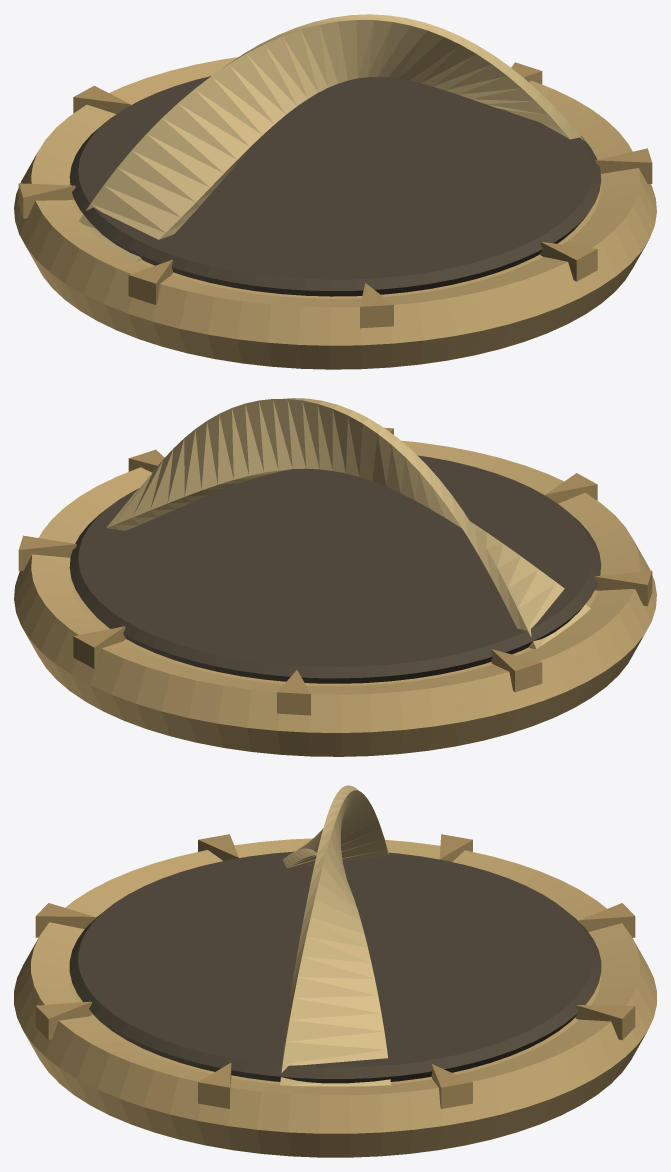
3 renders of one model, top to bottom at view 1: azimuth 30°, elevation 25°; view 2: azimuth 150°, elevation 25°; view 3: azimuth 270°, elevation 25°, orthographic.
Visible parts, largest first — view 1: WholeDarkUpperBackingDisk, WholeWrappedRoundPadAndTurnedRim, WholeRaisedHalfTwistedSheathHandBand, WholeRootedSheathRimFold06, WholeRootedSheathRimFold04, WholeRootedSheathRimFold05, WholeRootedSheathRimFold03, WholeRootedSheathRimFold07, WholeRootedSheathRimFold02; view 2: WholeDarkUpperBackingDisk, WholeWrappedRoundPadAndTurnedRim, WholeRaisedHalfTwistedSheathHandBand, WholeRootedSheathRimFold03, WholeRootedSheathRimFold01, WholeRootedSheathRimFold02, WholeRootedSheathRimFold04, WholeRootedSheathRimFold00, WholeRootedSheathRimFold05, WholeRootedSheathRimFold07; view 3: WholeDarkUpperBackingDisk, WholeWrappedRoundPadAndTurnedRim, WholeRaisedHalfTwistedSheathHandBand, WholeRootedSheathRimFold01, WholeRootedSheathRimFold00, WholeRootedSheathRimFold06, WholeRootedSheathRimFold07, WholeRootedSheathRimFold05, WholeRootedSheathRimFold02, WholeRootedSheathRimFold04, WholeRootedSheathRimFold03.
Part boxes in pixels (<box>): WholeDarkUpperBackingDisk: <box>69,76,601,296</box>; WholeWrappedRoundPadAndTurnedRim: <box>14,57,656,369</box>; WholeRaisedHalfTwistedSheathHandBand: <box>79,14,584,261</box>; WholeRootedSheathRimFold06: <box>540,241,597,281</box>; WholeRootedSheathRimFold04: <box>128,259,172,304</box>; WholeRootedSheathRimFold05: <box>360,283,393,328</box>; WholeRootedSheathRimFold03: <box>18,183,75,218</box>; WholeRootedSheathRimFold07: <box>595,148,652,183</box>; WholeRootedSheathRimFold02: <box>73,85,130,113</box>; WholeDarkUpperBackingDisk: <box>69,455,601,683</box>; WholeWrappedRoundPadAndTurnedRim: <box>14,440,656,756</box>; WholeRaisedHalfTwistedSheathHandBand: <box>106,398,590,648</box>; WholeRootedSheathRimFold03: <box>491,649,542,692</box>; WholeRootedSheathRimFold01: <box>73,626,125,668</box>; WholeRootedSheathRimFold02: <box>277,670,310,715</box>; WholeRootedSheathRimFold04: <box>594,570,652,606</box>; WholeRootedSheathRimFold00: <box>18,535,76,571</box>; WholeRootedSheathRimFold05: <box>545,473,597,503</box>; WholeRootedSheathRimFold07: <box>128,449,164,472</box>; WholeDarkUpperBackingDisk: <box>69,851,601,1083</box>; WholeWrappedRoundPadAndTurnedRim: <box>14,838,656,1157</box>; WholeRaisedHalfTwistedSheathHandBand: <box>280,785,390,1086</box>; WholeRootedSheathRimFold01: <box>575,1005,635,1040</box>; WholeRootedSheathRimFold00: <box>431,1064,472,1108</box>; WholeRootedSheathRimFold06: <box>35,1001,91,1040</box>; WholeRootedSheathRimFold07: <box>198,1063,231,1108</box>; WholeRootedSheathRimFold05: <box>35,903,95,937</box>; WholeRootedSheathRimFold02: <box>579,903,635,937</box>; WholeRootedSheathRimFold04: <box>198,834,238,860</box>; WholeRootedSheathRimFold03: <box>439,834,472,861</box>.
Bounding box in the file's own units: 0.1498 × 0.061 × 0.1498.
